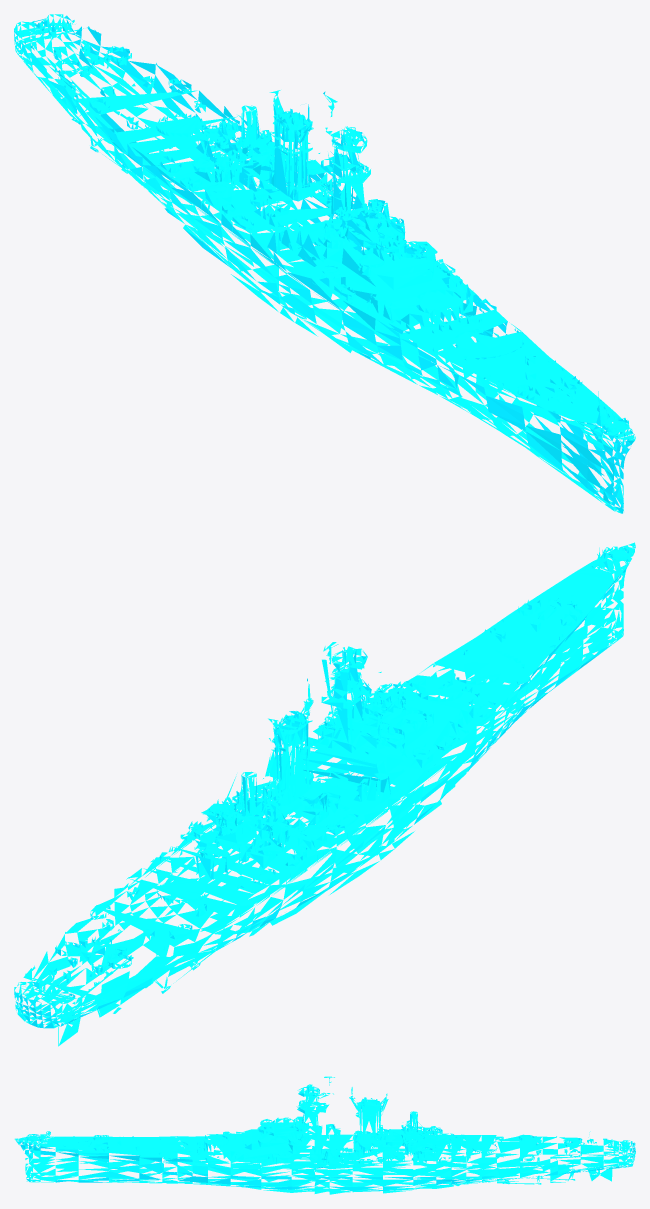
File: Alaska.glb
3 views of the same model, one above another, from view 1: azimuth 30°, elevation 25°; view 2: azimuth 150°, elevation 25°; view 3: azimuth 270°, elevation 25° (orthographic). The views are drawn at different scales.
Size of the model in its own units: 1.83 by 3.12 by 16.4.
